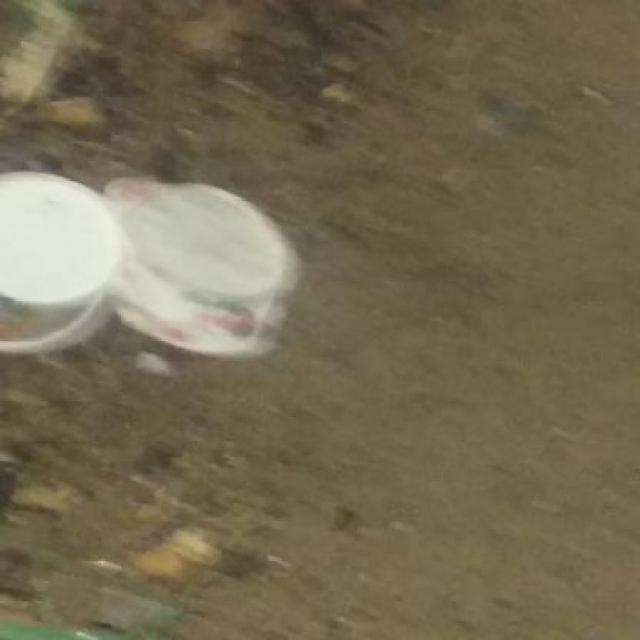garbage: (6, 156, 318, 396)
